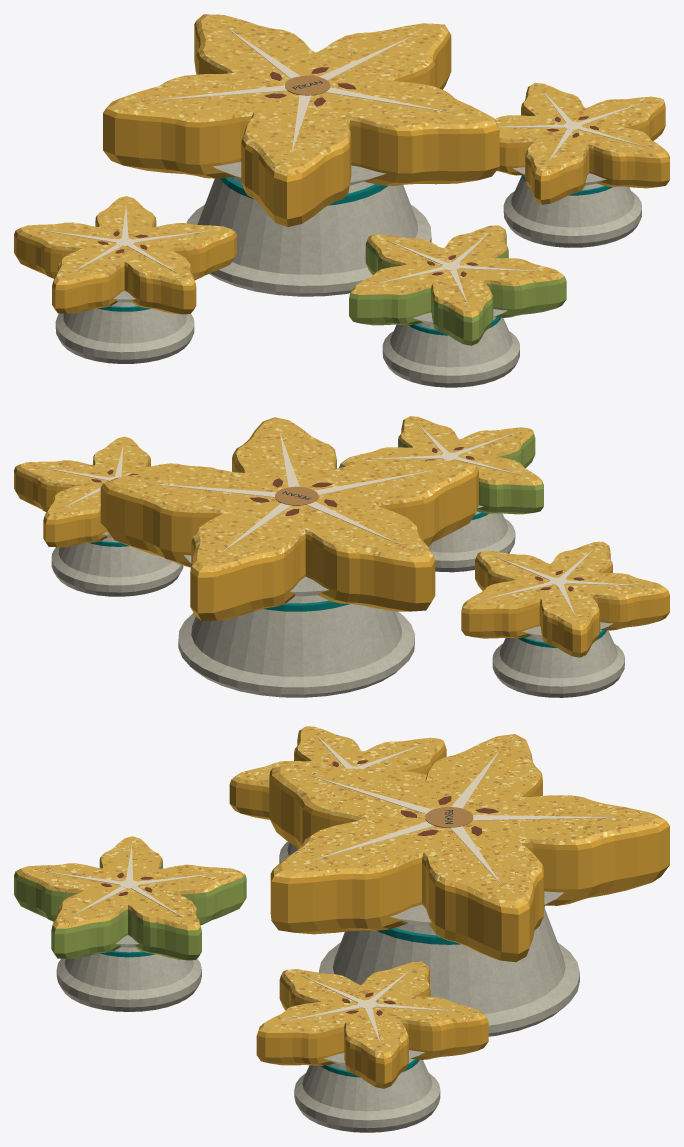
3 views of the same model, one above another, from view 1: azimuth 30°, elevation 25°; view 2: azimuth 150°, elevation 25°; view 3: azimuth 270°, elevation 25° (orthographic). The views are drawn at different scales.
Parts seen in each view (by area): view 1: Cut fruit terrazzo, Five-lobed cast skins, Rebated concrete pedestals, Cut-face inlays, Ceramic neck bands, Maker seal; view 2: Cut fruit terrazzo, Rebated concrete pedestals, Five-lobed cast skins, Cut-face inlays, Ceramic neck bands, Maker seal; view 3: Cut fruit terrazzo, Five-lobed cast skins, Rebated concrete pedestals, Cut-face inlays, Ceramic neck bands, Maker seal.
Part boxes in pixels (x1,y1,x2,y2): Cut fruit terrazzo: (16,14,668,317); Five-lobed cast skins: (14,14,669,345); Rebated concrete pedestals: (55,162,641,387); Cut-face inlays: (40,27,647,303); Ceramic neck bands: (98,175,612,335); Maker seal: (285,75,330,95); Cut fruit terrazzo: (15,416,667,630); Rebated concrete pedestals: (51,505,624,697); Five-lobed cast skins: (14,426,669,657); Cut-face inlays: (38,423,643,616); Ceramic neck bands: (89,512,606,647); Maker seal: (275,486,318,505); Cut fruit terrazzo: (16,726,665,1058); Five-lobed cast skins: (14,731,669,1088); Rebated concrete pedestals: (56,842,579,1132); Cut-face inlays: (41,734,618,1043); Ceramic neck bands: (100,905,544,1077); Maker seal: (425,807,473,828).
Size of the model in its own units: 3.18 by 0.757 by 2.64.
9 materials, 2 textured.
